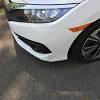front-bumper-dent: (7, 22, 74, 65)
